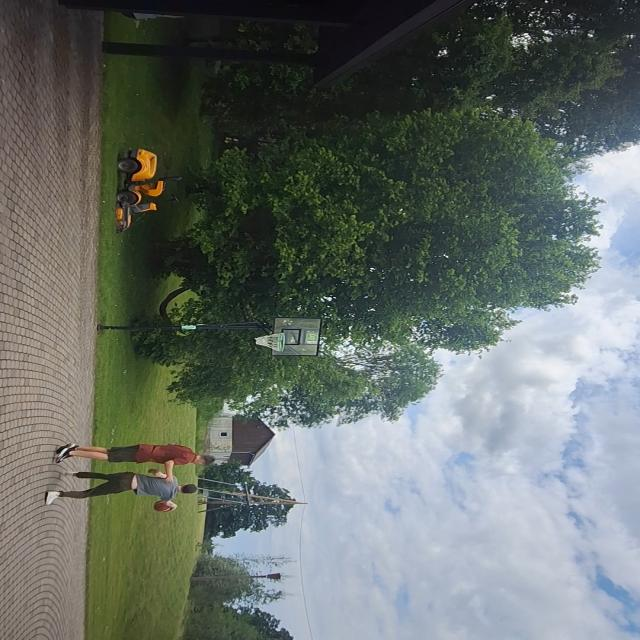ball: (155, 498, 176, 514)
hoop: (256, 332, 288, 352)
player: (48, 470, 198, 512), (54, 440, 216, 476)
